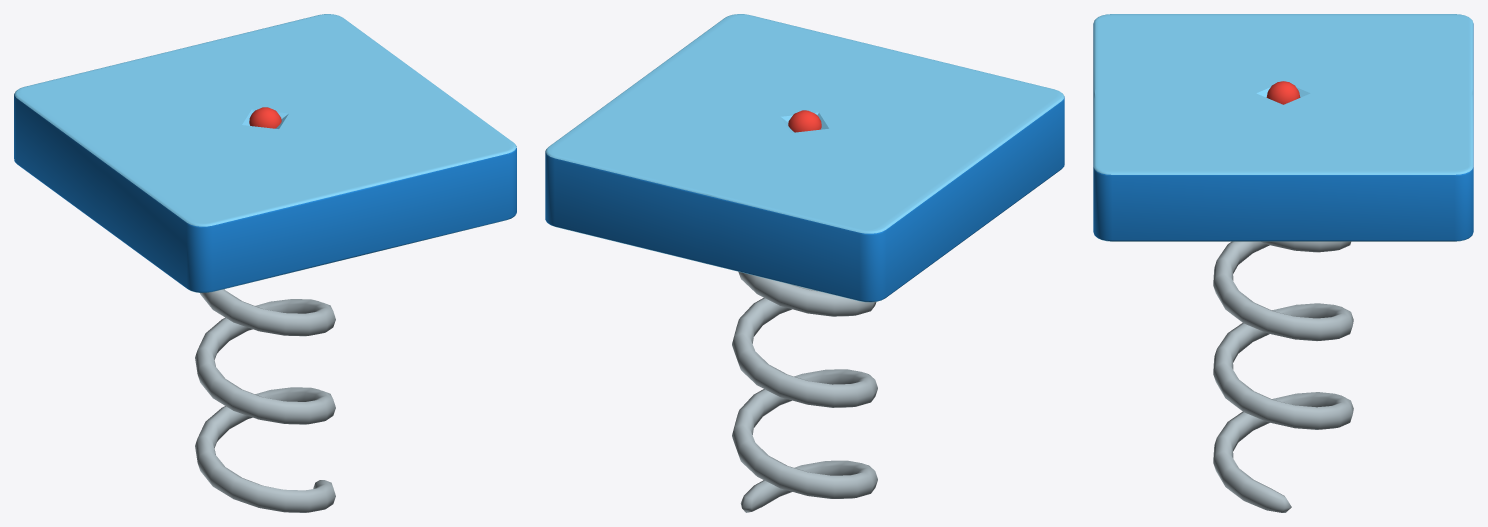
File: Trampoline.fbx
The picture shows the model from 3 angles, left to right: view 1: azimuth 30°, elevation 25°; view 2: azimuth 150°, elevation 25°; view 3: azimuth 270°, elevation 25°; orthographic projection. The views are drawn at different scales.
Parts seen in each view (by area): view 1: Trampoline, Spring; view 2: Trampoline, Spring, Pin; view 3: Trampoline, Spring, Pin.
Part boxes in pixels (left/top/right/bottom): Trampoline: left=14, top=14, right=516, bottom=292; Spring: left=195, top=289, right=335, bottom=512; Trampoline: left=545, top=14, right=1064, bottom=302; Spring: left=732, top=271, right=877, bottom=512; Pin: left=788, top=110, right=821, bottom=132; Trampoline: left=1093, top=14, right=1473, bottom=241; Spring: left=1213, top=241, right=1353, bottom=512; Pin: left=1266, top=81, right=1300, bottom=104.
Bounding box in the file's own units: 1 × 1 × 1.17.
